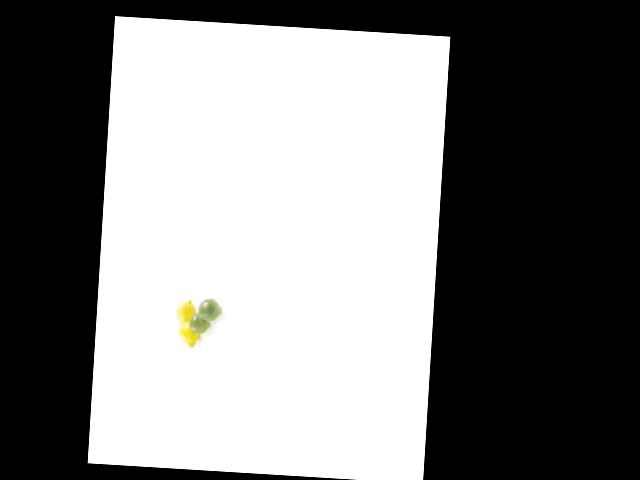lemon: (196, 295, 221, 322)
